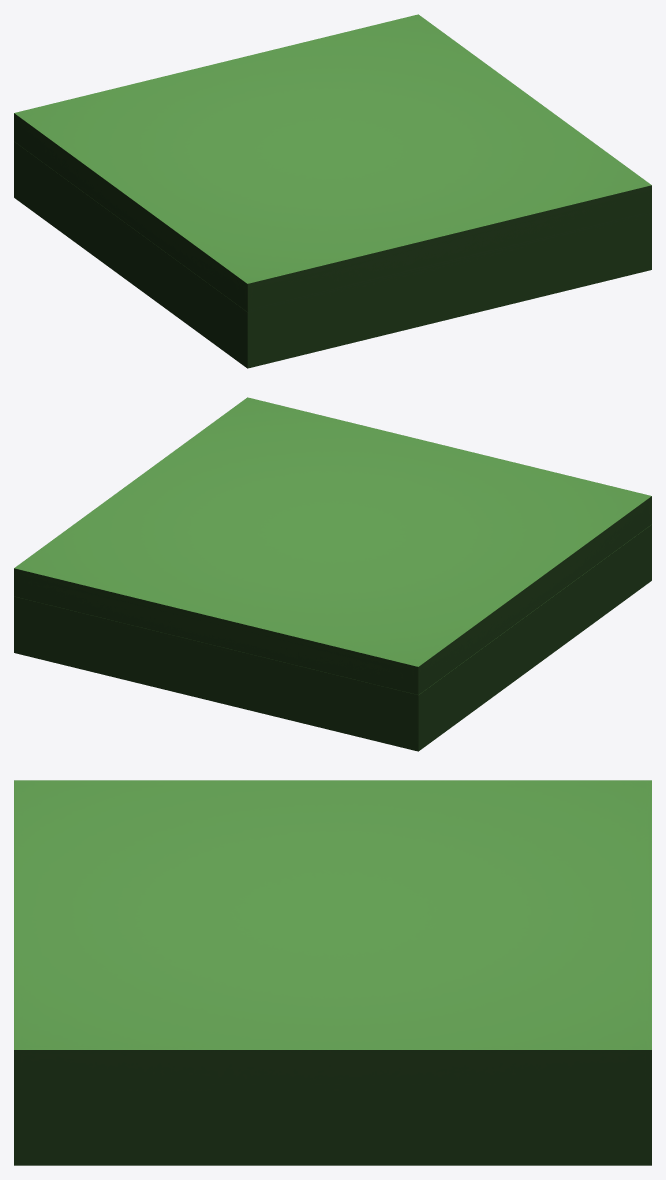
The model's file is tile-grass.glb.
The picture shows the model from 3 angles, top to bottom: view 1: azimuth 30°, elevation 25°; view 2: azimuth 150°, elevation 25°; view 3: azimuth 270°, elevation 25°; orthographic projection. The views are drawn at different scales.
Parts seen in each view (by area): view 1: tile-plain_grass; view 2: tile-plain_grass; view 3: tile-plain_grass.
Boxes of the visible parts, bbox=[...] form: tile-plain_grass: bbox=[14, 14, 651, 368]; tile-plain_grass: bbox=[14, 397, 651, 751]; tile-plain_grass: bbox=[14, 780, 651, 1165].
Size of the model in its own units: 1 by 0.2 by 1.
Materials: 1 (1 with a texture image).
